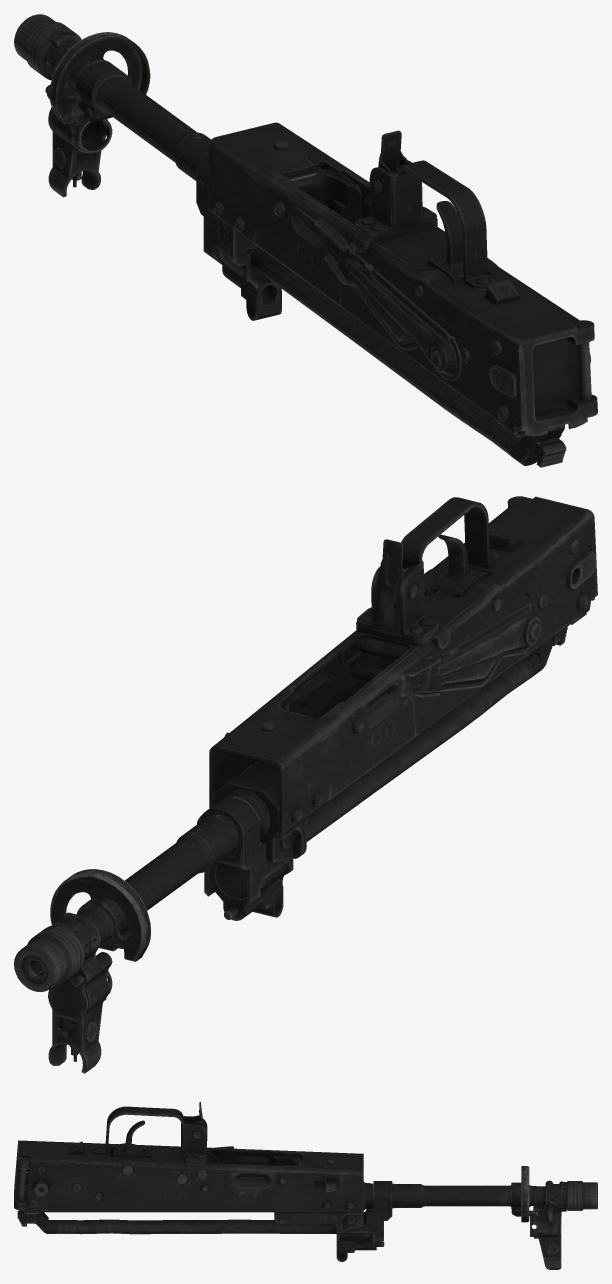
The picture shows the model from 3 angles, top to bottom: view 1: azimuth 30°, elevation 25°; view 2: azimuth 150°, elevation 25°; view 3: azimuth 270°, elevation 25°; orthographic projection. The views are drawn at different scales.
Parts seen in each view (by area): view 1: TW_57dc2fa62459775949412633_PZ_Import; view 2: TW_57dc2fa62459775949412633_PZ_Import; view 3: TW_57dc2fa62459775949412633_PZ_Import.
Boxes of the visible parts, x1,y1,x2,y2 form: TW_57dc2fa62459775949412633_PZ_Import: [14, 14, 597, 467]; TW_57dc2fa62459775949412633_PZ_Import: [14, 496, 597, 1073]; TW_57dc2fa62459775949412633_PZ_Import: [14, 1102, 597, 1269].
Bounding box in the file's own units: 0.0277 × 0.2477 × 0.0758.
1 material, 1 textured.
